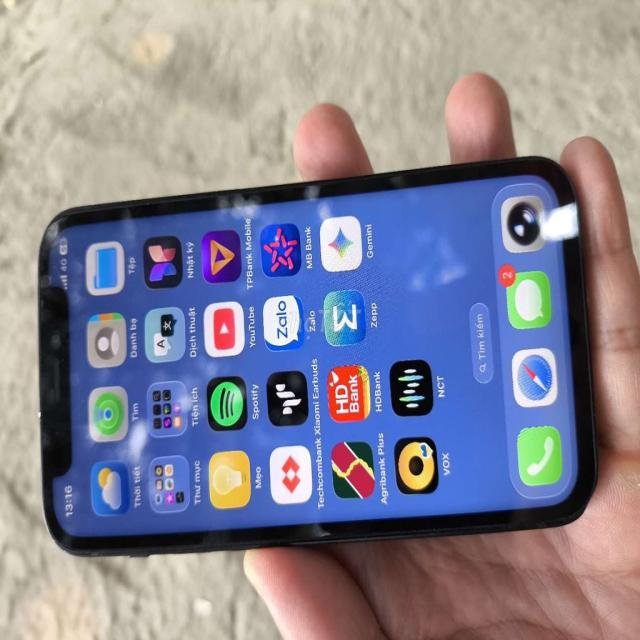gen_12_13: (32, 152, 598, 561)
